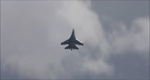maybay_muctieu: (61, 28, 84, 51)
